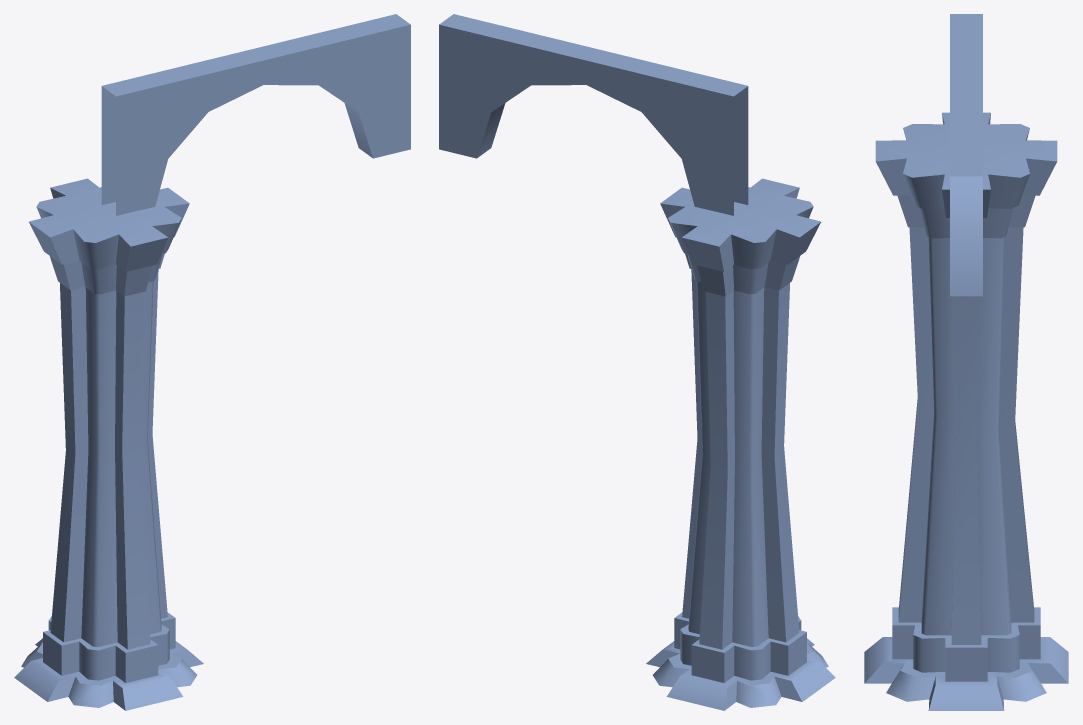
The model's file is M_Pilier.FBX.
The picture shows the model from 3 angles, left to right: view 1: azimuth 30°, elevation 25°; view 2: azimuth 150°, elevation 25°; view 3: azimuth 270°, elevation 25°; orthographic projection. The views are drawn at different scales.
Visible parts, largest first — view 1: Box003; view 2: Box003; view 3: Box003.
Part boxes in pixels (left/top/right/bottom): Box003: left=14, top=14, right=410, bottom=710; Box003: left=439, top=14, right=835, bottom=710; Box003: left=864, top=14, right=1068, bottom=710.
Bounding box in the file's own units: 506 × 753 × 213.
